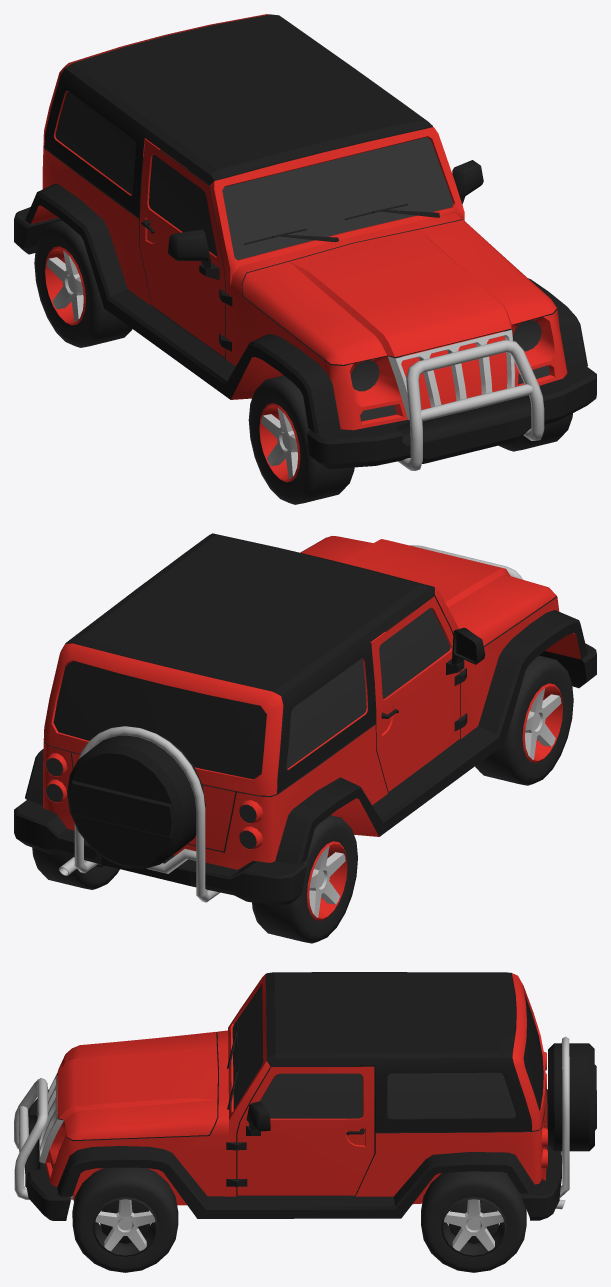
The model's file is Ice Truck.fbx.
The picture shows the model from 3 angles, top to bottom: view 1: azimuth 30°, elevation 25°; view 2: azimuth 150°, elevation 25°; view 3: azimuth 270°, elevation 25°; orthographic projection. The views are drawn at different scales.
Visible parts, largest first — view 1: MeshBaker_mesh_mesh; view 2: MeshBaker_mesh_mesh; view 3: MeshBaker_mesh_mesh.
Boxes of the visible parts, x1=… form: MeshBaker_mesh_mesh: x1=14, y1=14, x2=596, y2=504; MeshBaker_mesh_mesh: x1=14, y1=533, x2=596, y2=943; MeshBaker_mesh_mesh: x1=14, y1=972, x2=596, y2=1272.
Bounding box in the file's own units: 221 × 177 × 444.
